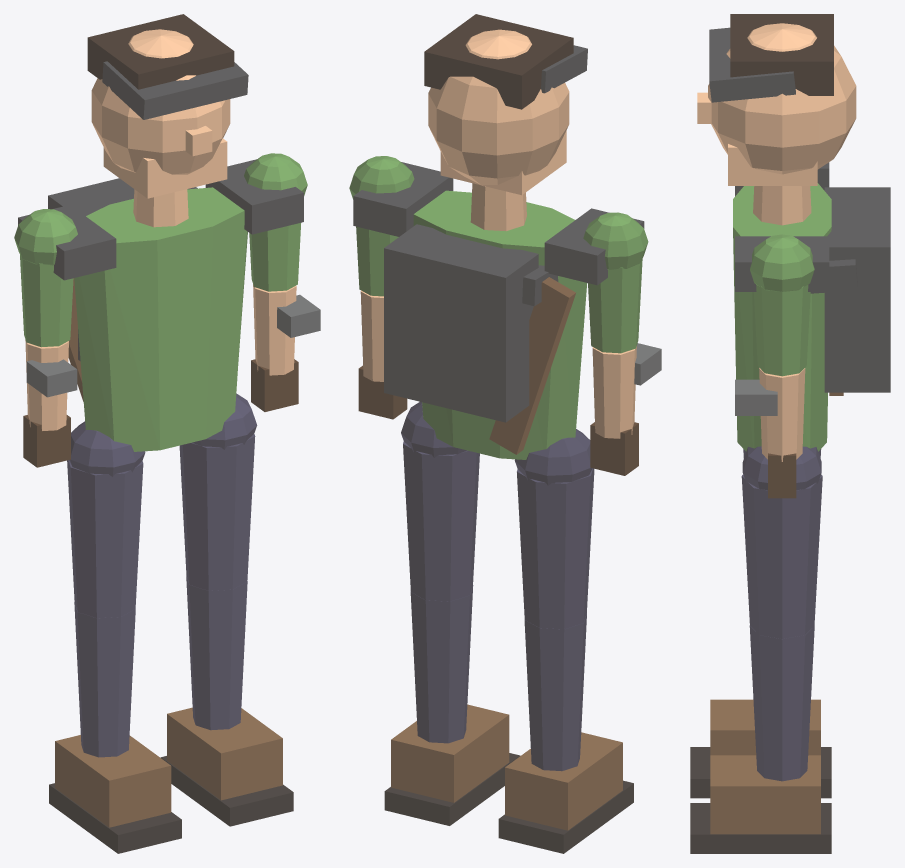
File: survivor.glb
3 renders of one model, left to right at view 1: azimuth 30°, elevation 25°; view 2: azimuth 150°, elevation 25°; view 3: azimuth 270°, elevation 25°, orthographic. The views are drawn at different scales.
Parts seen in each view (by area): view 1: torso, head, leftCalf, rightCalf, leftLeg, leftArm, rightLeg, rightArm; view 2: torso, head, leftCalf, rightCalf, leftLeg, leftArm, rightLeg, rightArm; view 3: torso, head, rightCalf, rightArm, rightLeg, leftCalf.
Part boxes in pixels (x1=…): torso: x1=18, y1=159, x2=303, y2=451; head: x1=87, y1=14, x2=248, y2=198; leftCalf: x1=49, y1=602, x2=181, y2=853; rightCalf: x1=160, y1=575, x2=293, y2=826; leftLeg: x1=67, y1=421, x2=145, y2=618; leftArm: x1=14, y1=209, x2=77, y2=467; rightLeg: x1=179, y1=393, x2=257, y2=590; rightArm: x1=244, y1=153, x2=320, y2=411; torso: x1=353, y1=162, x2=644, y2=459; head: x1=424, y1=14, x2=587, y2=195; leftCalf: x1=498, y1=613, x2=633, y2=853; rightCalf: x1=384, y1=585, x2=520, y2=825; leftLeg: x1=514, y1=429, x2=594, y2=629; leftArm: x1=583, y1=212, x2=661, y2=475; rightLeg: x1=401, y1=402, x2=479, y2=601; rightArm: x1=349, y1=156, x2=414, y2=419; torso: x1=733, y1=162, x2=890, y2=451; head: x1=697, y1=14, x2=856, y2=185; rightCalf: x1=690, y1=625, x2=831, y2=853; rightArm: x1=735, y1=234, x2=814, y2=498; rightLeg: x1=741, y1=446, x2=822, y2=638; leftCalf: x1=690, y1=699, x2=831, y2=798.
Bounding box in the file's own units: 0.714 × 1.83 × 0.425.
